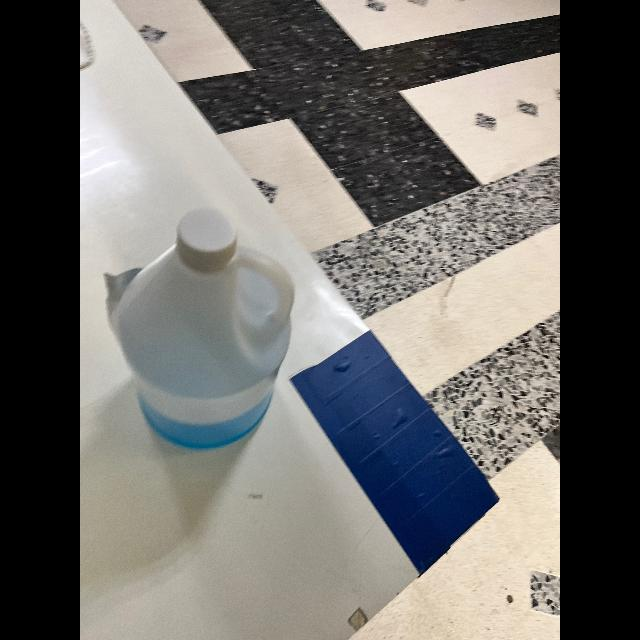chemical_plastic_gallon: (114, 206, 300, 454)
